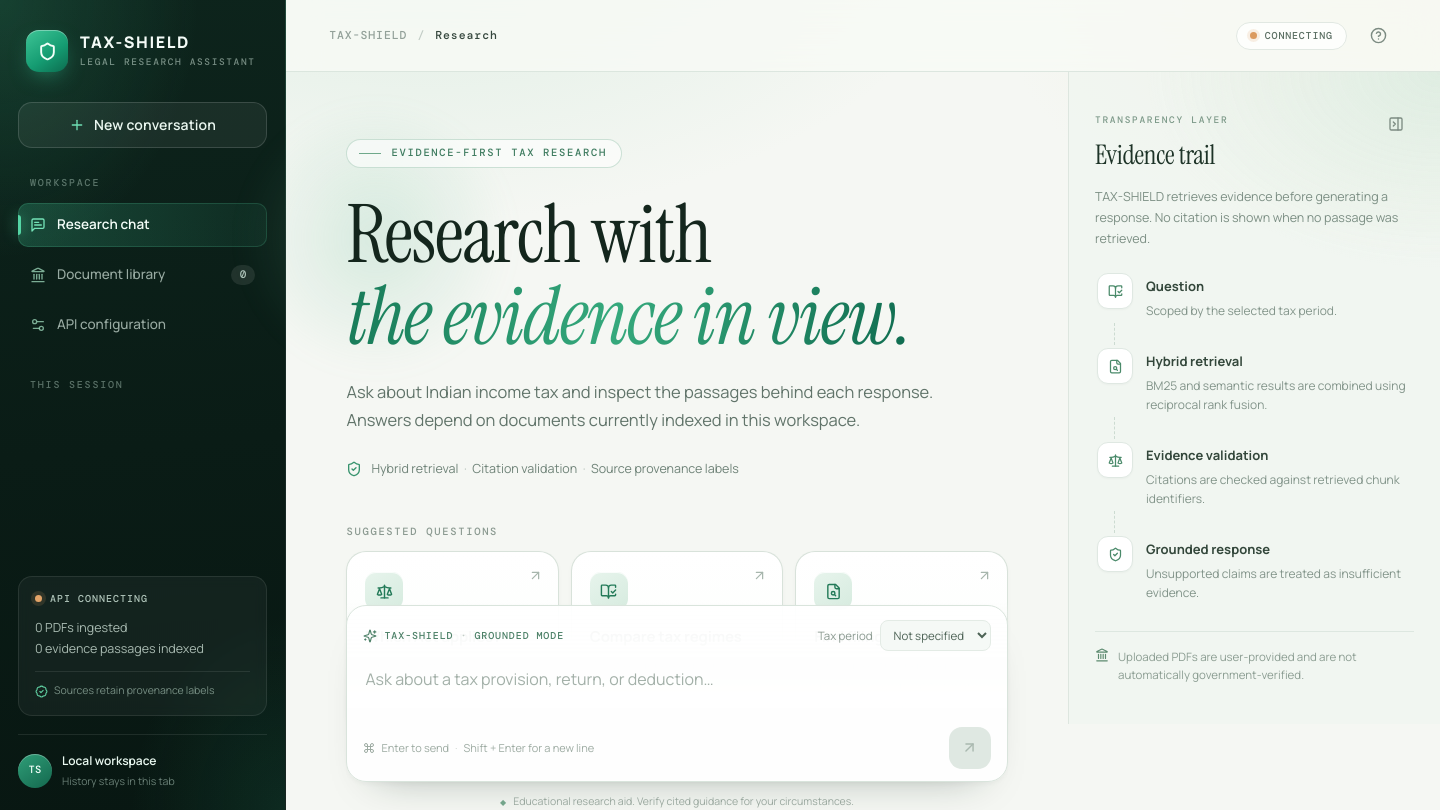
Scenario: TAX-SHIELD chat and library › displays service failures without inventing an answer
Type "What is Section 80C?" into the text box named "Ask an Indian income tax question".
click(677, 690); type("What is Section 80C?")  # box [364,652,991,727]
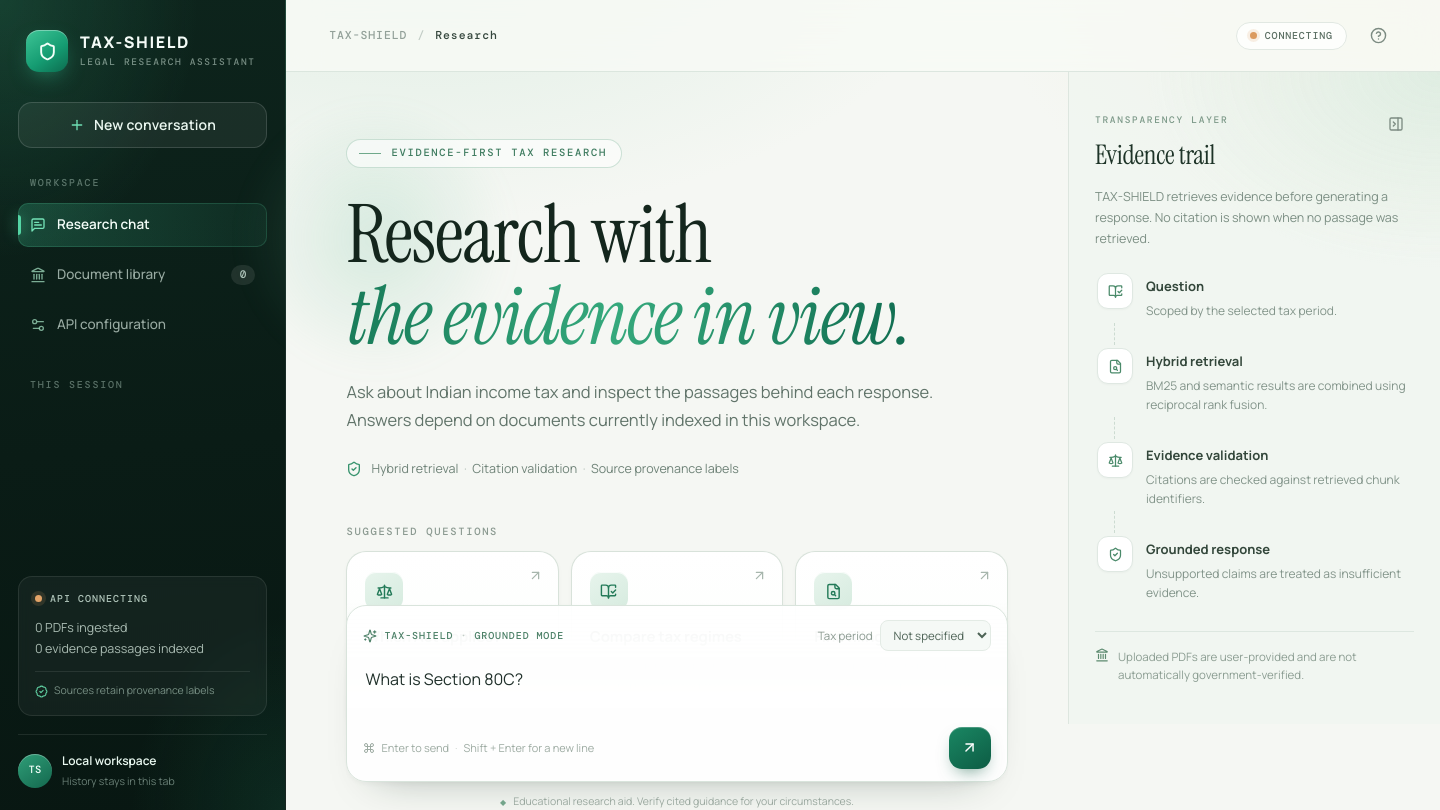
Click the button named "Send question".
click(970, 748)  # box [948,727,990,769]
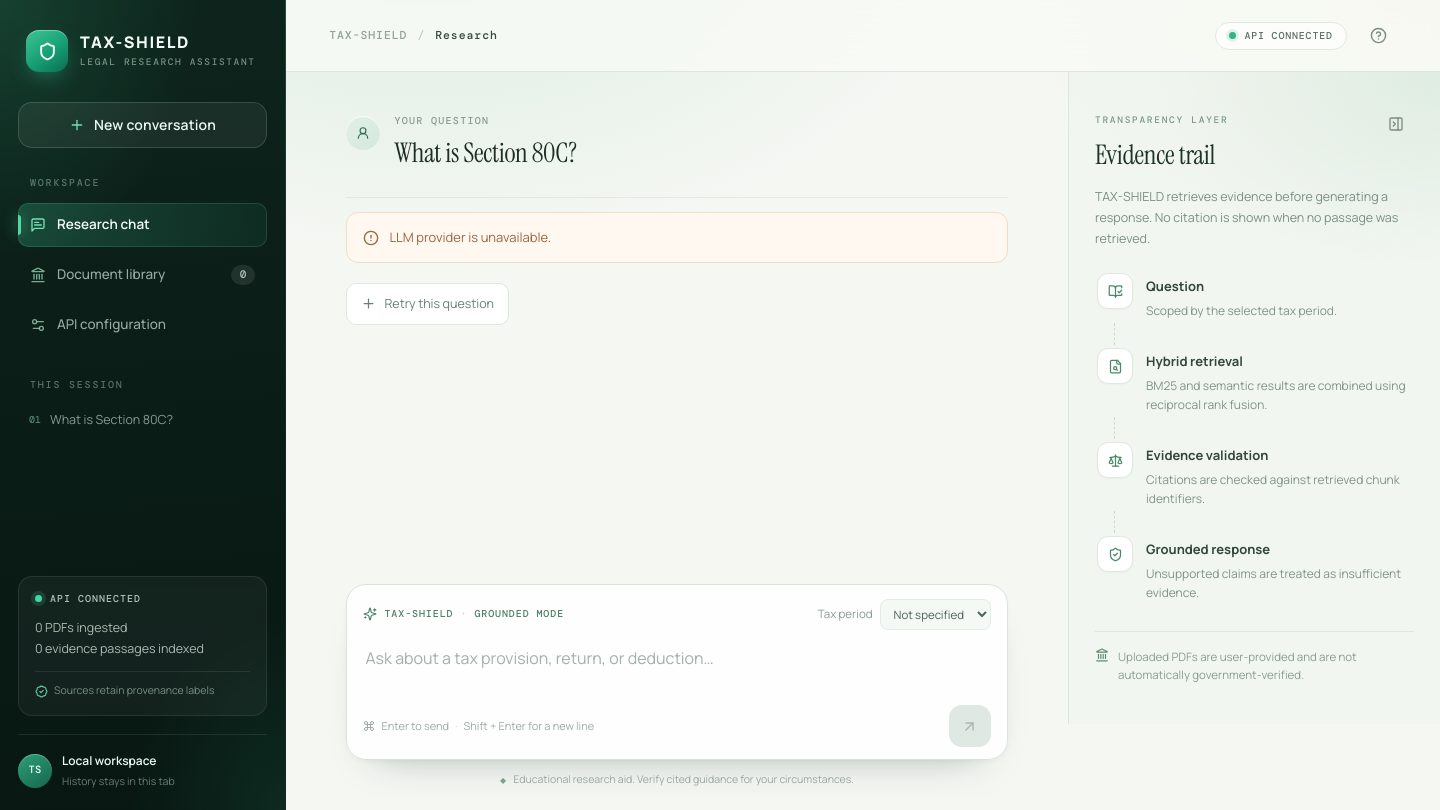
Check: the text "LLM provider is unavailable." is shown, box [346,212,1008,262]
